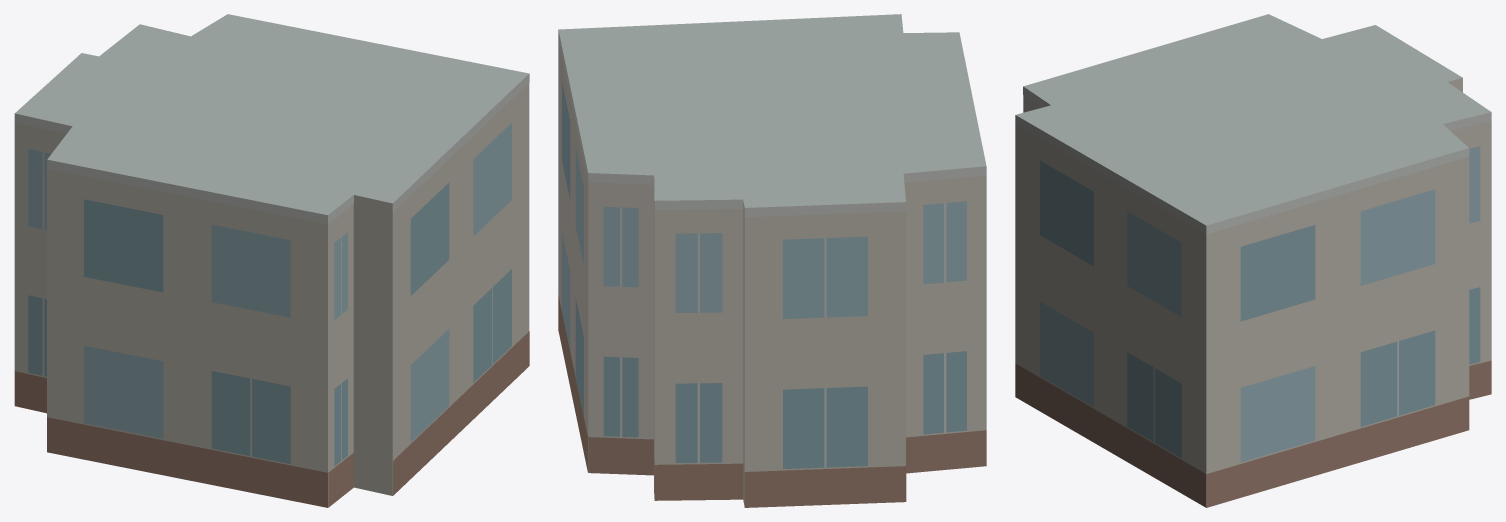
File: survey-upis-32496670.glb
3 views of the same model, side by side, from view 1: azimuth 30°, elevation 25°; view 2: azimuth 150°, elevation 25°; view 3: azimuth 270°, elevation 25° (orthographic). The views are drawn at different scales.
Parts seen in each view (by area): view 1: survey-upis-32496670.tmp; view 2: survey-upis-32496670.tmp; view 3: survey-upis-32496670.tmp.
Part boxes in pixels (left/top/right/bottom): survey-upis-32496670.tmp: left=14, top=14, right=529, bottom=507; survey-upis-32496670.tmp: left=558, top=14, right=986, bottom=507; survey-upis-32496670.tmp: left=1015, top=14, right=1491, bottom=507.
Bounding box in the file's own units: 12.79 × 7.94 × 12.16.
